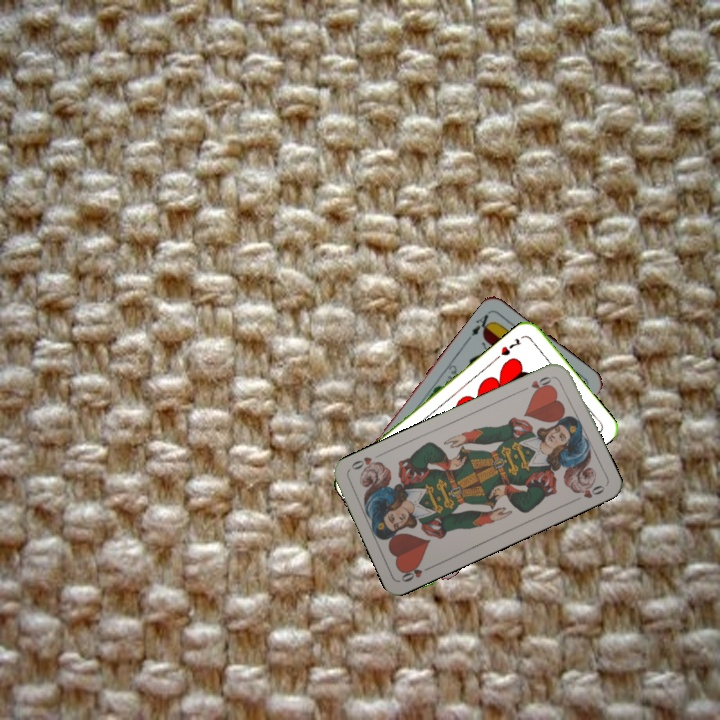EA: (464, 307, 495, 342)
H7: (497, 334, 524, 358)
HO: (397, 560, 436, 585), (518, 372, 557, 396)
